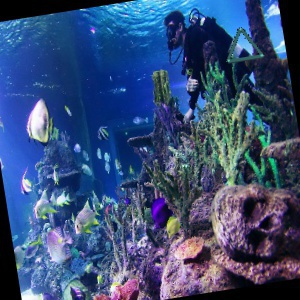triangle: (225, 26, 266, 65)
